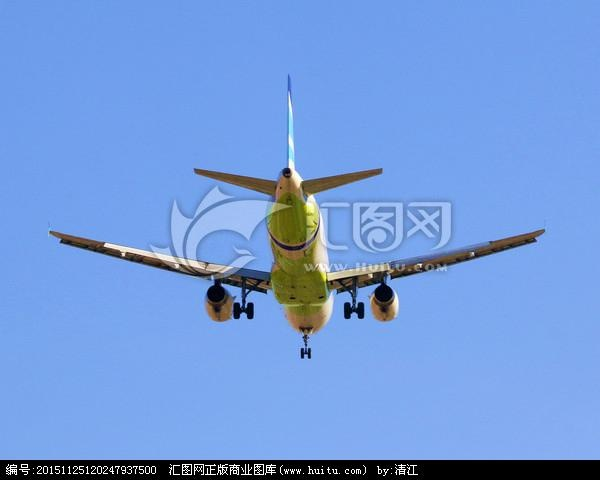airplane: (48, 68, 547, 360)
